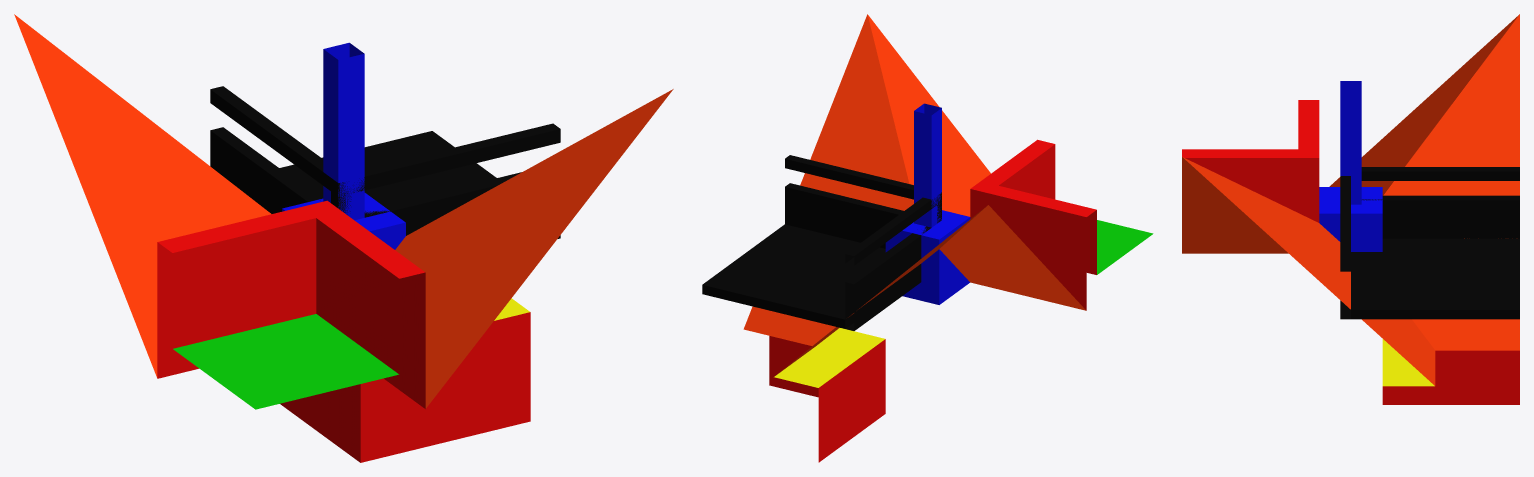
Rendered from None_P_S_E_E_S_W_E_E_BigStrut.fbx.
3 renders of one model, left to right at view 1: azimuth 30°, elevation 25°; view 2: azimuth 150°, elevation 25°; view 3: azimuth 270°, elevation 25°, orthographic. The views are drawn at different scales.
Parts seen in each view (by area): view 1: None_P_S_E_E_S_W_E_E_BigStrut; view 2: None_P_S_E_E_S_W_E_E_BigStrut; view 3: None_P_S_E_E_S_W_E_E_BigStrut.
Boxes of the visible parts, x1=… form: None_P_S_E_E_S_W_E_E_BigStrut: x1=14, y1=14, x2=673, y2=462; None_P_S_E_E_S_W_E_E_BigStrut: x1=702, y1=14, x2=1153, y2=462; None_P_S_E_E_S_W_E_E_BigStrut: x1=1182, y1=14, x2=1519, y2=404.
Size of the model in its own units: 100 by 100 by 100.
